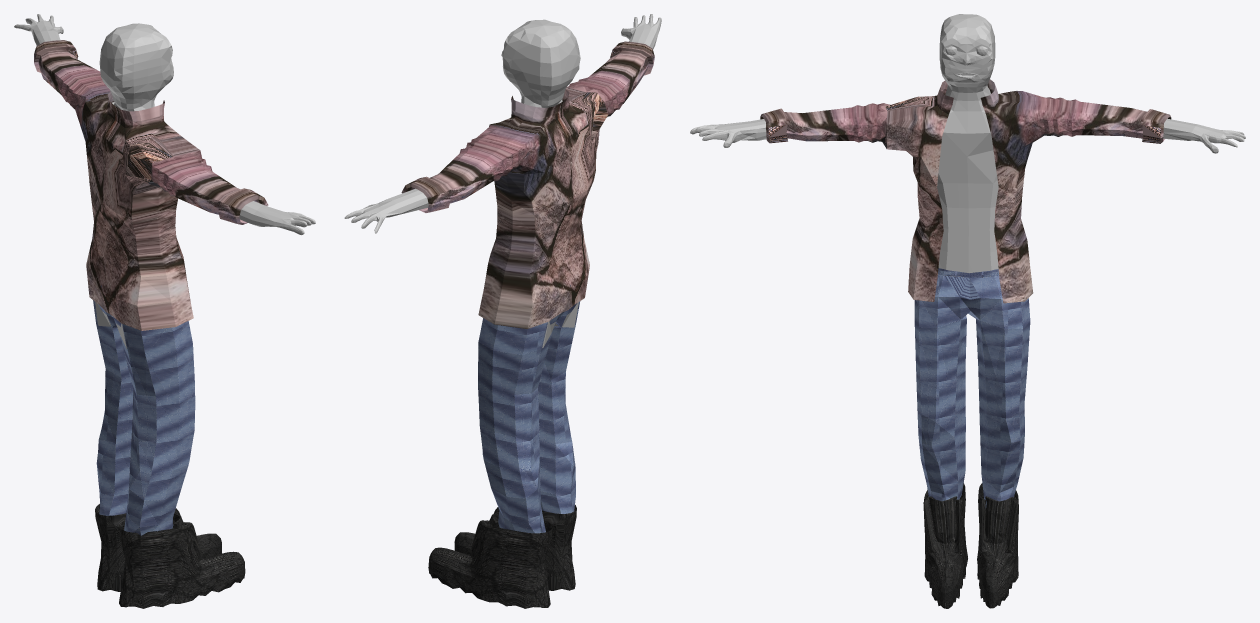
The model's file is human2.obj.
3 renders of one model, left to right at view 1: azimuth 30°, elevation 25°; view 2: azimuth 150°, elevation 25°; view 3: azimuth 270°, elevation 25°, orthographic. The views are drawn at different scales.
Parts seen in each view (by area): view 1: Shirt.001_Cube.016, Pants.002_Cube.008, Boots_Pair_Cube.012, Human.004_Cube.002; view 2: Shirt.001_Cube.016, Pants.002_Cube.008, Boots_Pair_Cube.012, Human.004_Cube.002; view 3: Shirt.001_Cube.016, Pants.002_Cube.008, Human.004_Cube.002, Boots_Pair_Cube.012.
Part boxes in pixels (x1,y1,x2,y2): Shirt.001_Cube.016: (34,40,268,330); Pants.002_Cube.008: (93,285,195,535); Boots_Pair_Cube.012: (95,504,245,608); Human.004_Cube.002: (14,14,315,348); Shirt.001_Cube.016: (401,41,654,328); Pants.002_Cube.008: (478,285,580,533); Boots_Pair_Cube.012: (428,505,576,608); Human.004_Cube.002: (344,14,661,347); Shirt.001_Cube.016: (760,79,1171,303); Pants.002_Cube.008: (914,268,1030,508); Human.004_Cube.002: (690,14,1245,277); Boots_Pair_Cube.012: (923,483,1018,608).
Size of the model in its own units: 1.77 by 7.25 by 6.69.
